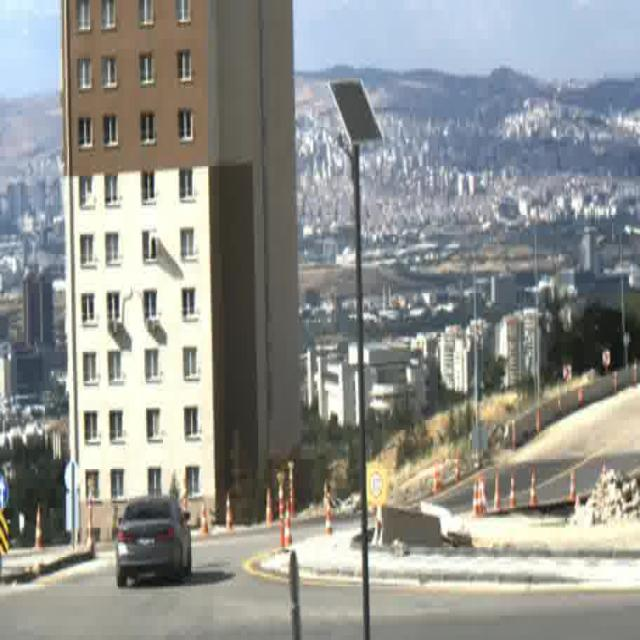Car: (116, 497, 191, 588)
